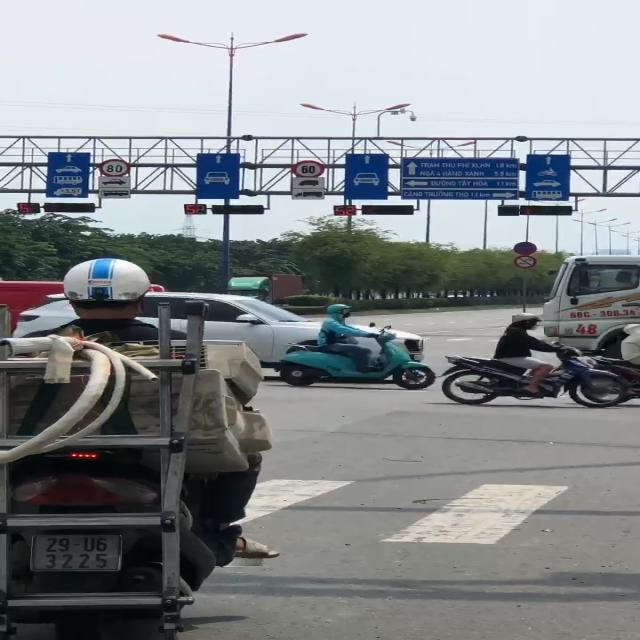Bien bao toc do toi da cho phep: (98, 159, 134, 178), (290, 160, 324, 178)
